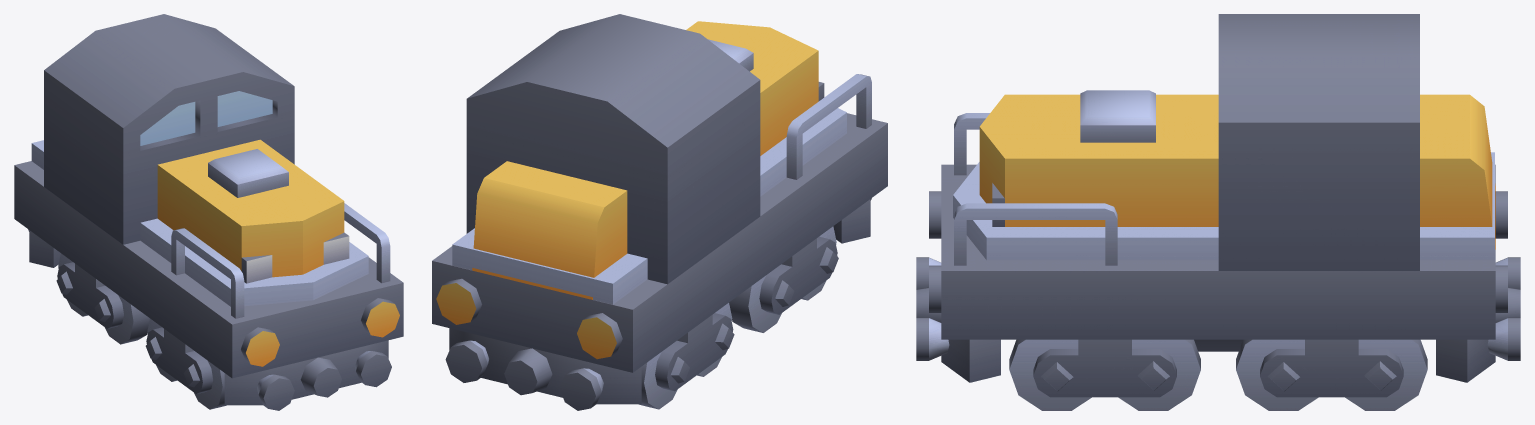
Rendered from train-diesel-c.glb.
The picture shows the model from 3 angles, left to right: view 1: azimuth 30°, elevation 25°; view 2: azimuth 150°, elevation 25°; view 3: azimuth 270°, elevation 25°; orthographic projection. The views are drawn at different scales.
Parts seen in each view (by area): view 1: train-diesel-c; view 2: train-diesel-c; view 3: train-diesel-c.
Boxes of the visible parts, left/top/right/bottom form: train-diesel-c: left=14, top=14, right=403, bottom=410; train-diesel-c: left=432, top=14, right=887, bottom=410; train-diesel-c: left=916, top=14, right=1520, bottom=410.
Bounding box in the file's own units: 1 × 1.46 × 2.4.
1 material, 1 textured.
